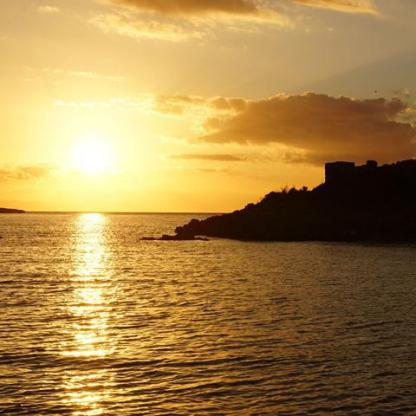other: (47, 121, 132, 191), (72, 206, 118, 310)
